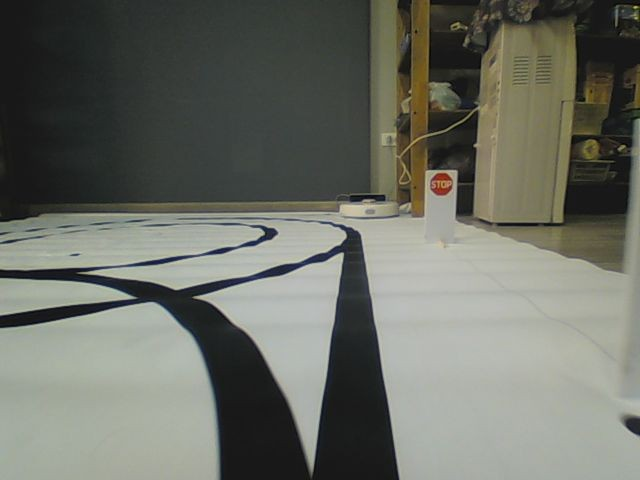Stop: (428, 171, 454, 197)
